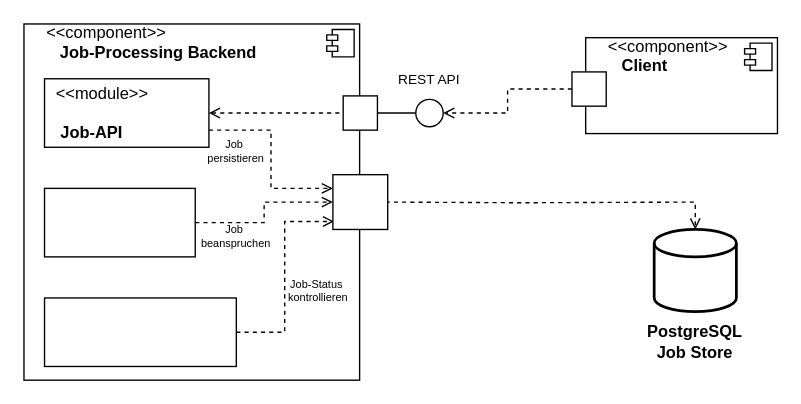
Some shapes in this 801 by 404 pixel diagram are drawn without their labels. The shapes that lost their labels are listed below. From the top down, each one's centre as x and y in pixels, then its label:
At [119,222]: "<<module>> Worker".
At [139,331]: "<<module>> Recovery Service".
